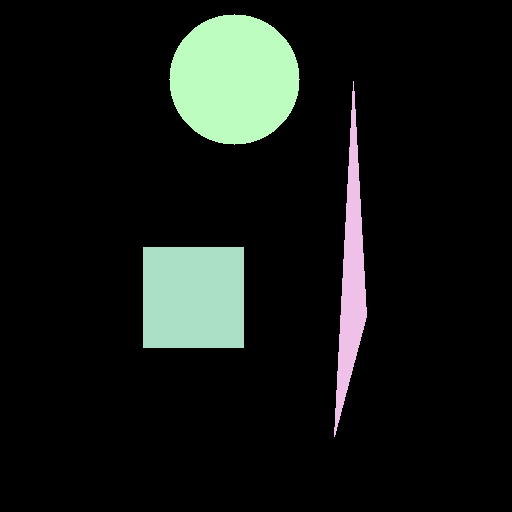circle: (169, 14, 299, 144)
square: (143, 247, 243, 347)
triangle: (334, 81, 366, 436)
